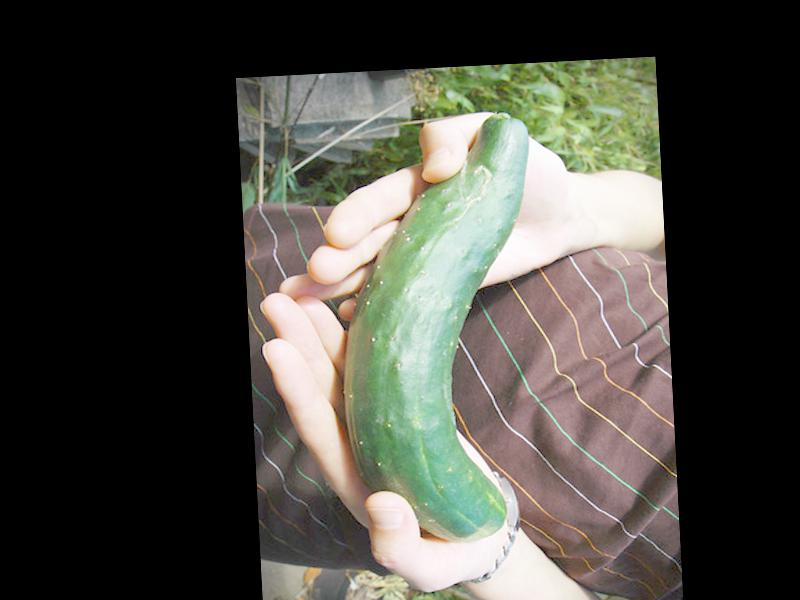Cucumber: (330, 114, 549, 547)
